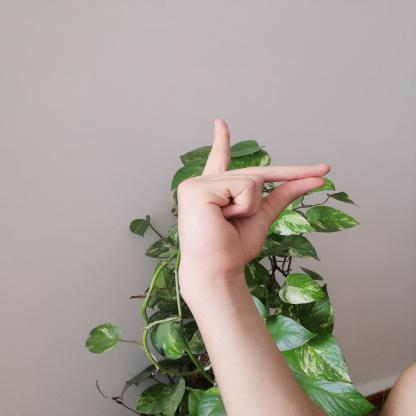TAA: (165, 110, 343, 291)
